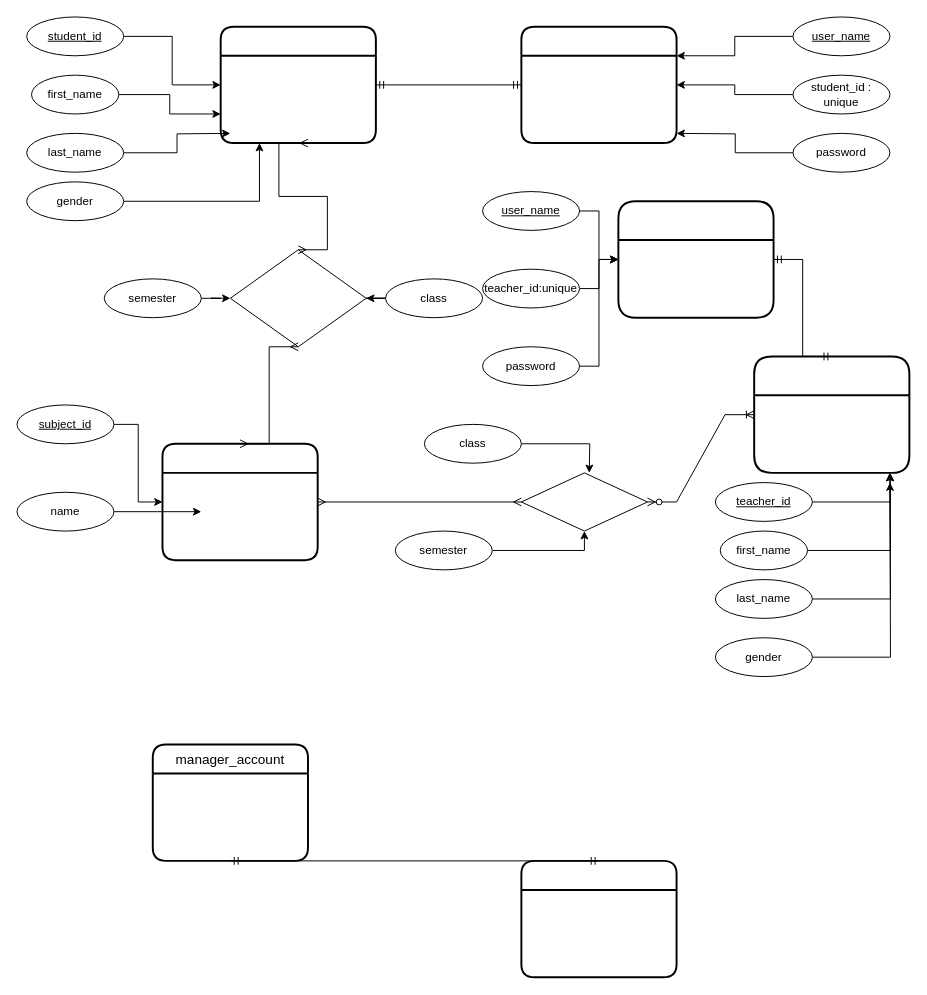
Some shapes in this 927 by 995 pixel diagram are drawn without their labels. Each missing label, with the centre of its shape:
manager: the point at 598,918
student: the point at 297,84
student_account: the point at 598,84
student_subject: the point at 297,298
Subject: the point at 239,501
teacher: the point at 831,414
teacher_account: the point at 695,259
teacher_subject: the point at 583,501
